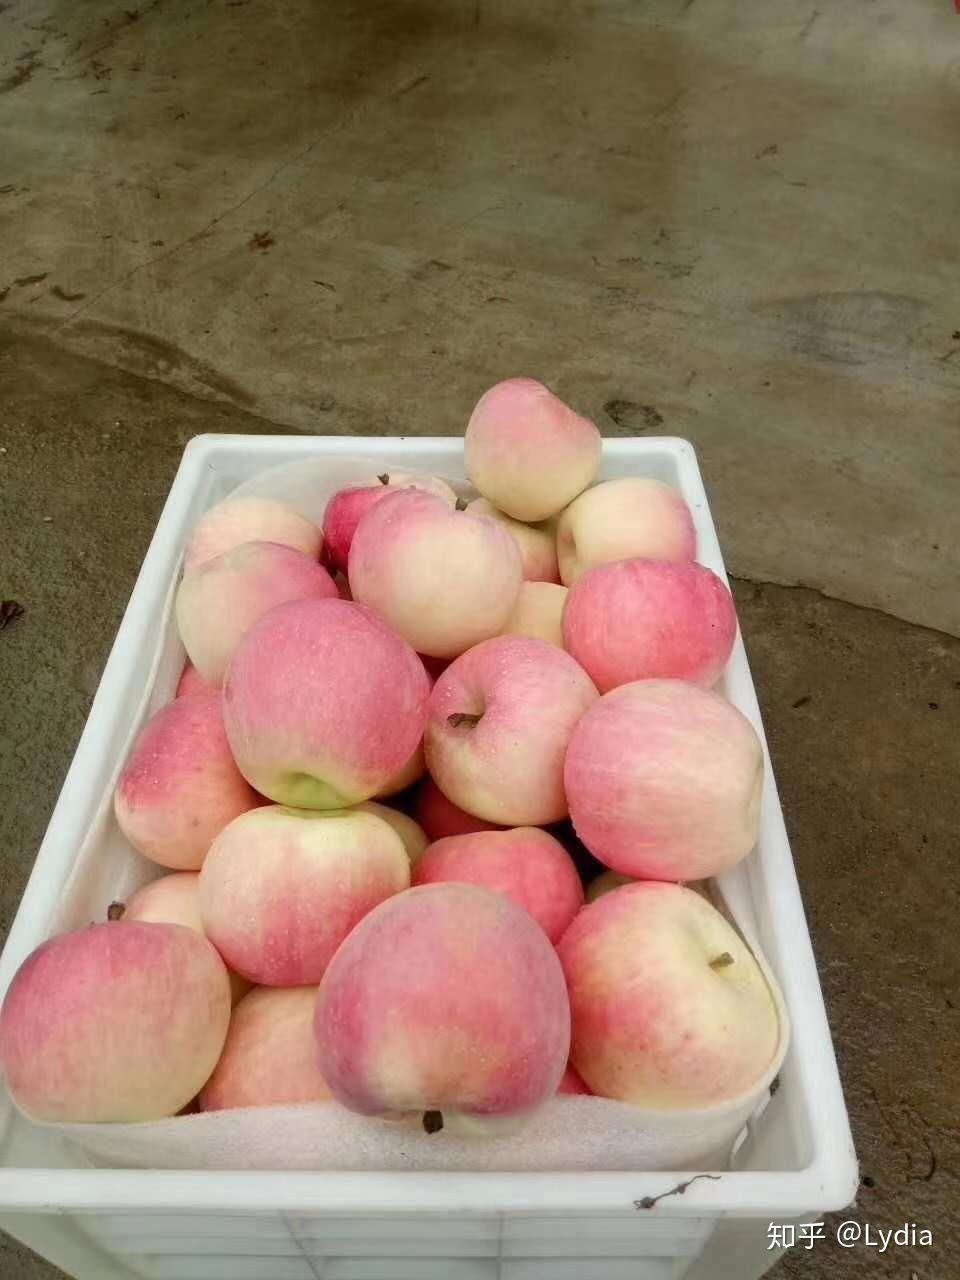apple: (316, 882, 579, 1127), (548, 881, 781, 1114), (1, 917, 230, 1128), (219, 604, 436, 804), (559, 675, 773, 877), (197, 799, 408, 984), (417, 638, 593, 833), (351, 487, 520, 654), (169, 537, 334, 687), (560, 558, 735, 696), (465, 375, 607, 518), (555, 478, 698, 583), (189, 492, 325, 567)
